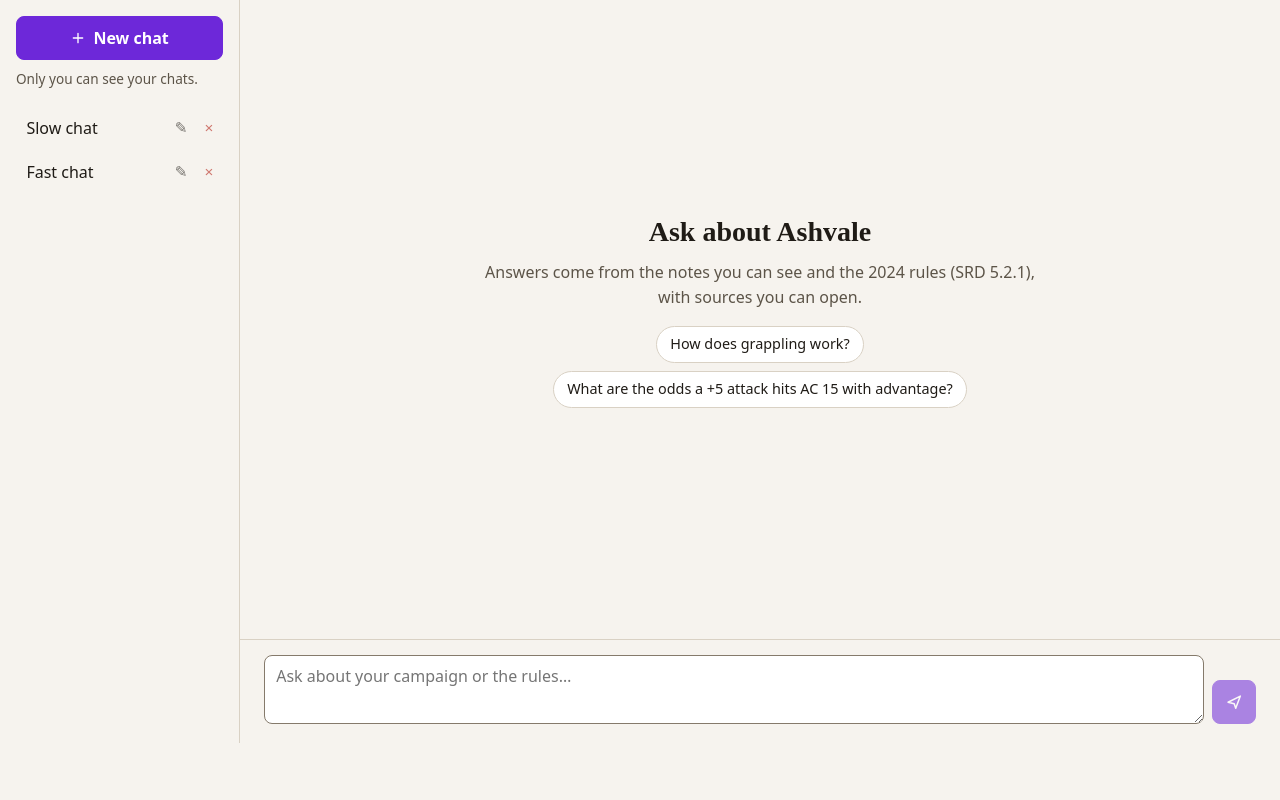
Test case: ChatPage stale responses (re-review) › C6: a slow load of the previous thread can't overwrite the thread now open
Click the button "Slow chat". click: (90, 128)
box: [16,108,165,148]
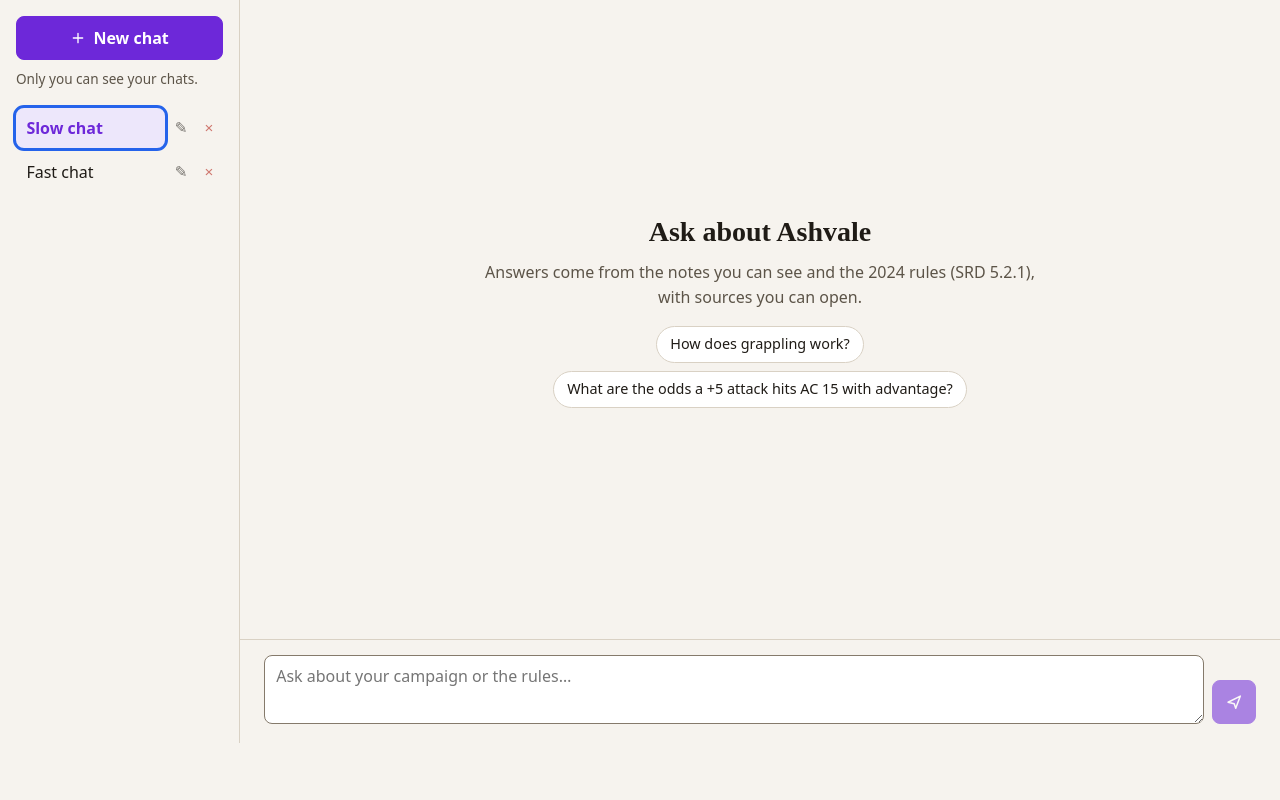
Click the button "Fast chat". click: (90, 172)
box: [16,152,165,192]
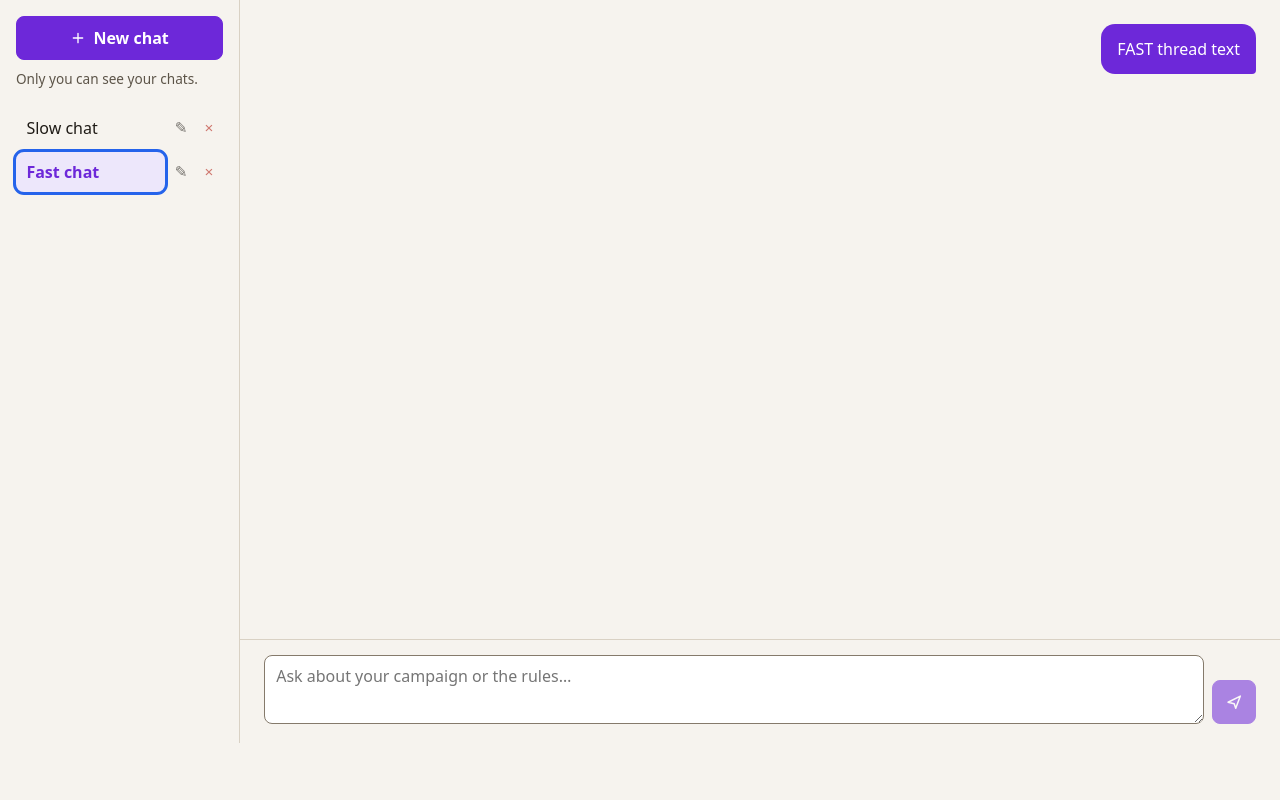
expect the text "FAST thread text" is shown: met, box [1117,37,1240,62]
